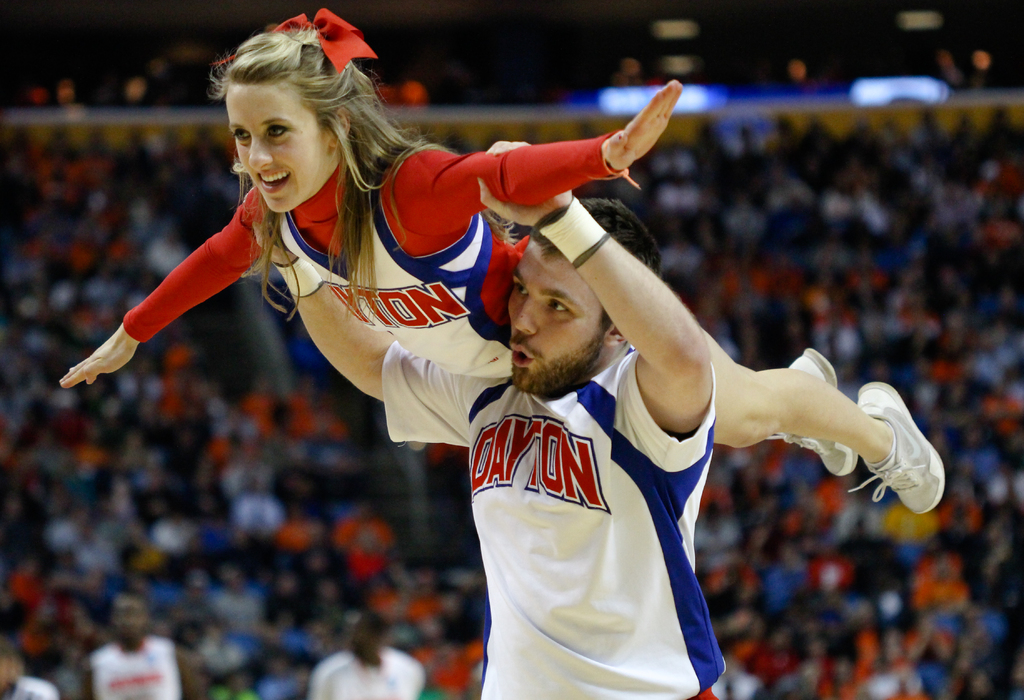Person: (0, 0, 1022, 700)
